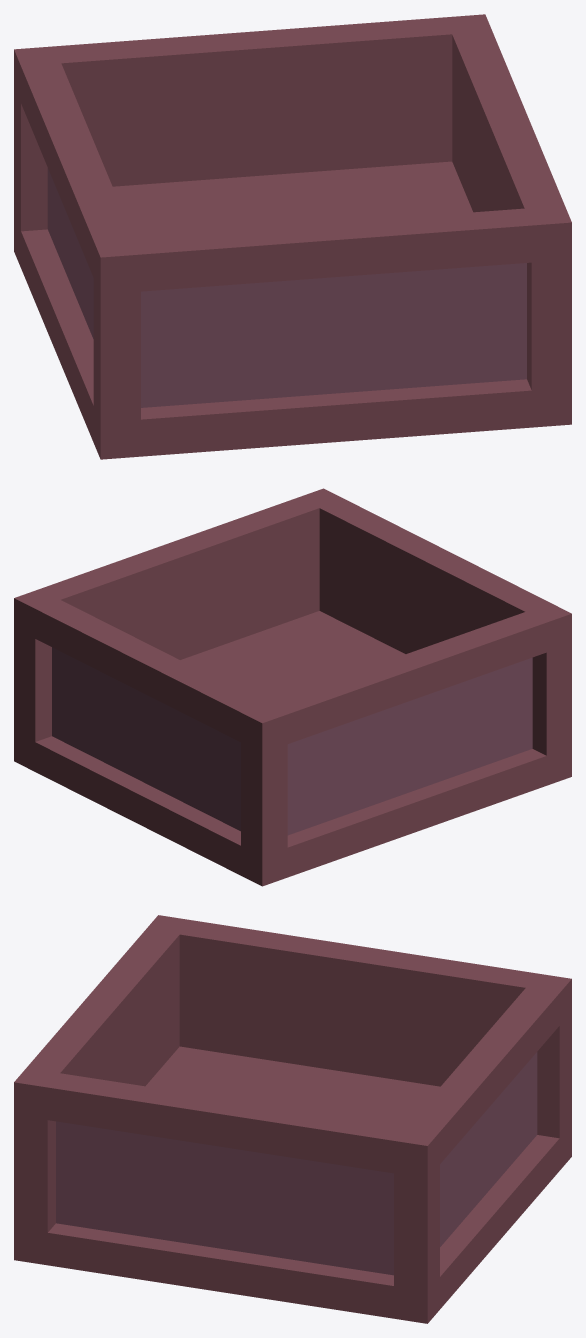
3 views of the same model, one above another, from view 1: azimuth 30°, elevation 25°; view 2: azimuth 150°, elevation 25°; view 3: azimuth 270°, elevation 25° (orthographic). The views are drawn at different scales.
Visible parts, largest first — view 1: manger; view 2: manger; view 3: manger.
Part boxes in pixels (x1=…): manger: x1=14, y1=14, x2=571, y2=459; manger: x1=14, y1=488, x2=571, y2=886; manger: x1=14, y1=915, x2=571, y2=1323.
Bounding box in the file's own units: 9.06 × 3.25 × 9.25.
